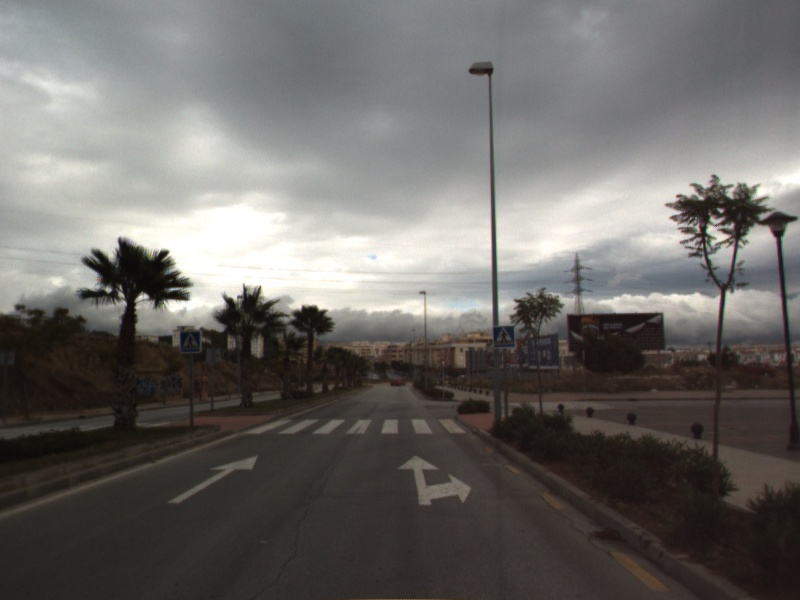STRAIGHT: (166, 453, 260, 505)
STRAIGHT_RIGHT: (395, 453, 473, 507)
